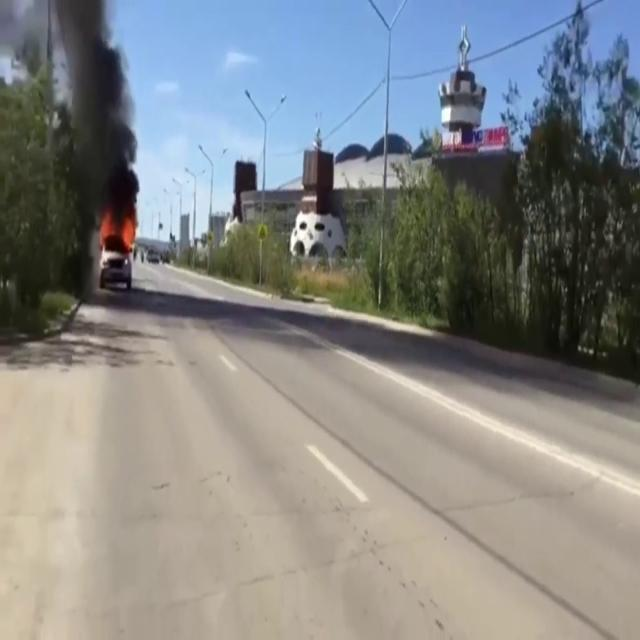Fire: (96, 206, 140, 260)
Smoke: (45, 0, 142, 244)
